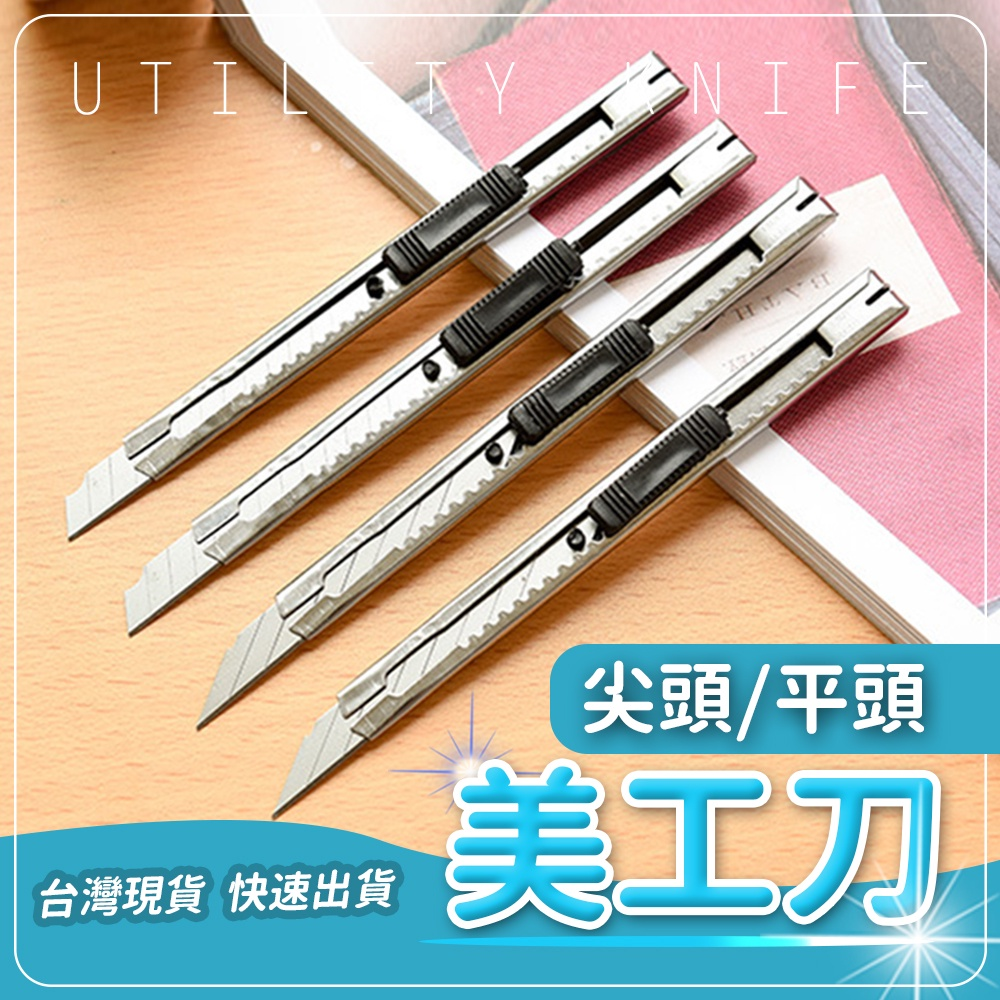cutter: (265, 264, 912, 820), (196, 173, 839, 729), (128, 114, 757, 637), (64, 45, 689, 540)
